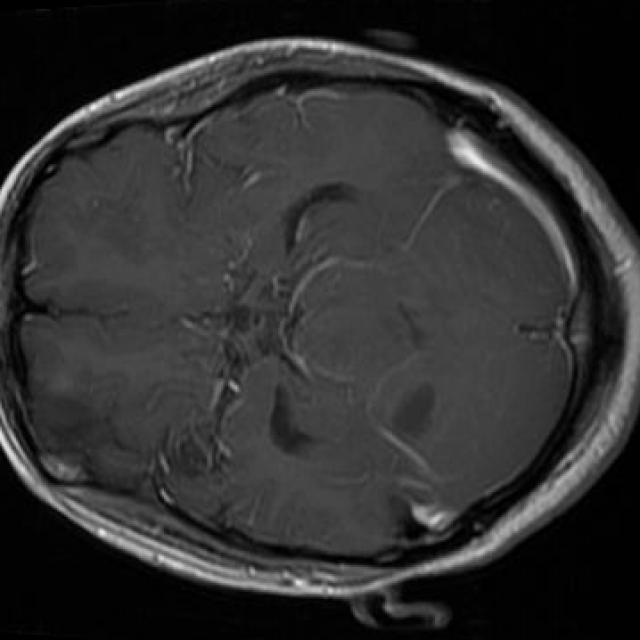glioma: (398, 385, 435, 440)
